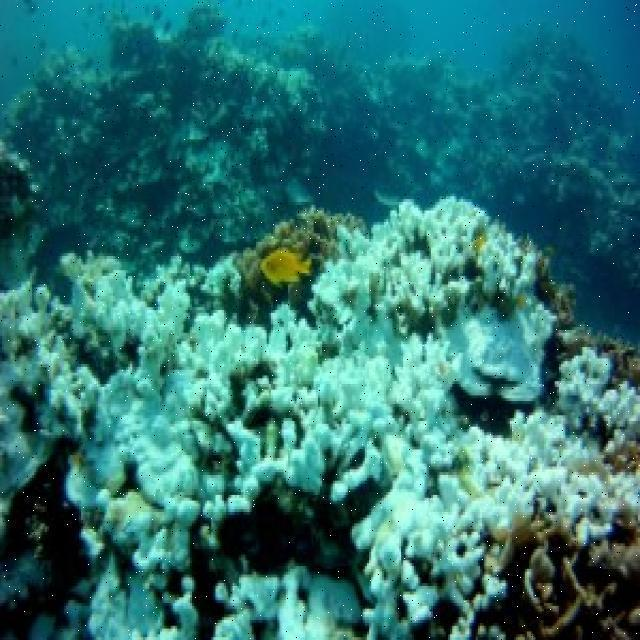Bleached: (8, 274, 230, 637)
Healthy: (508, 506, 640, 640)
